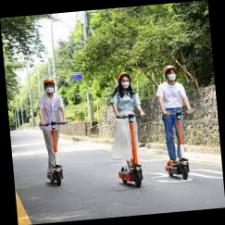helmet: (153, 63, 198, 182), (105, 70, 149, 189), (31, 76, 71, 189)
